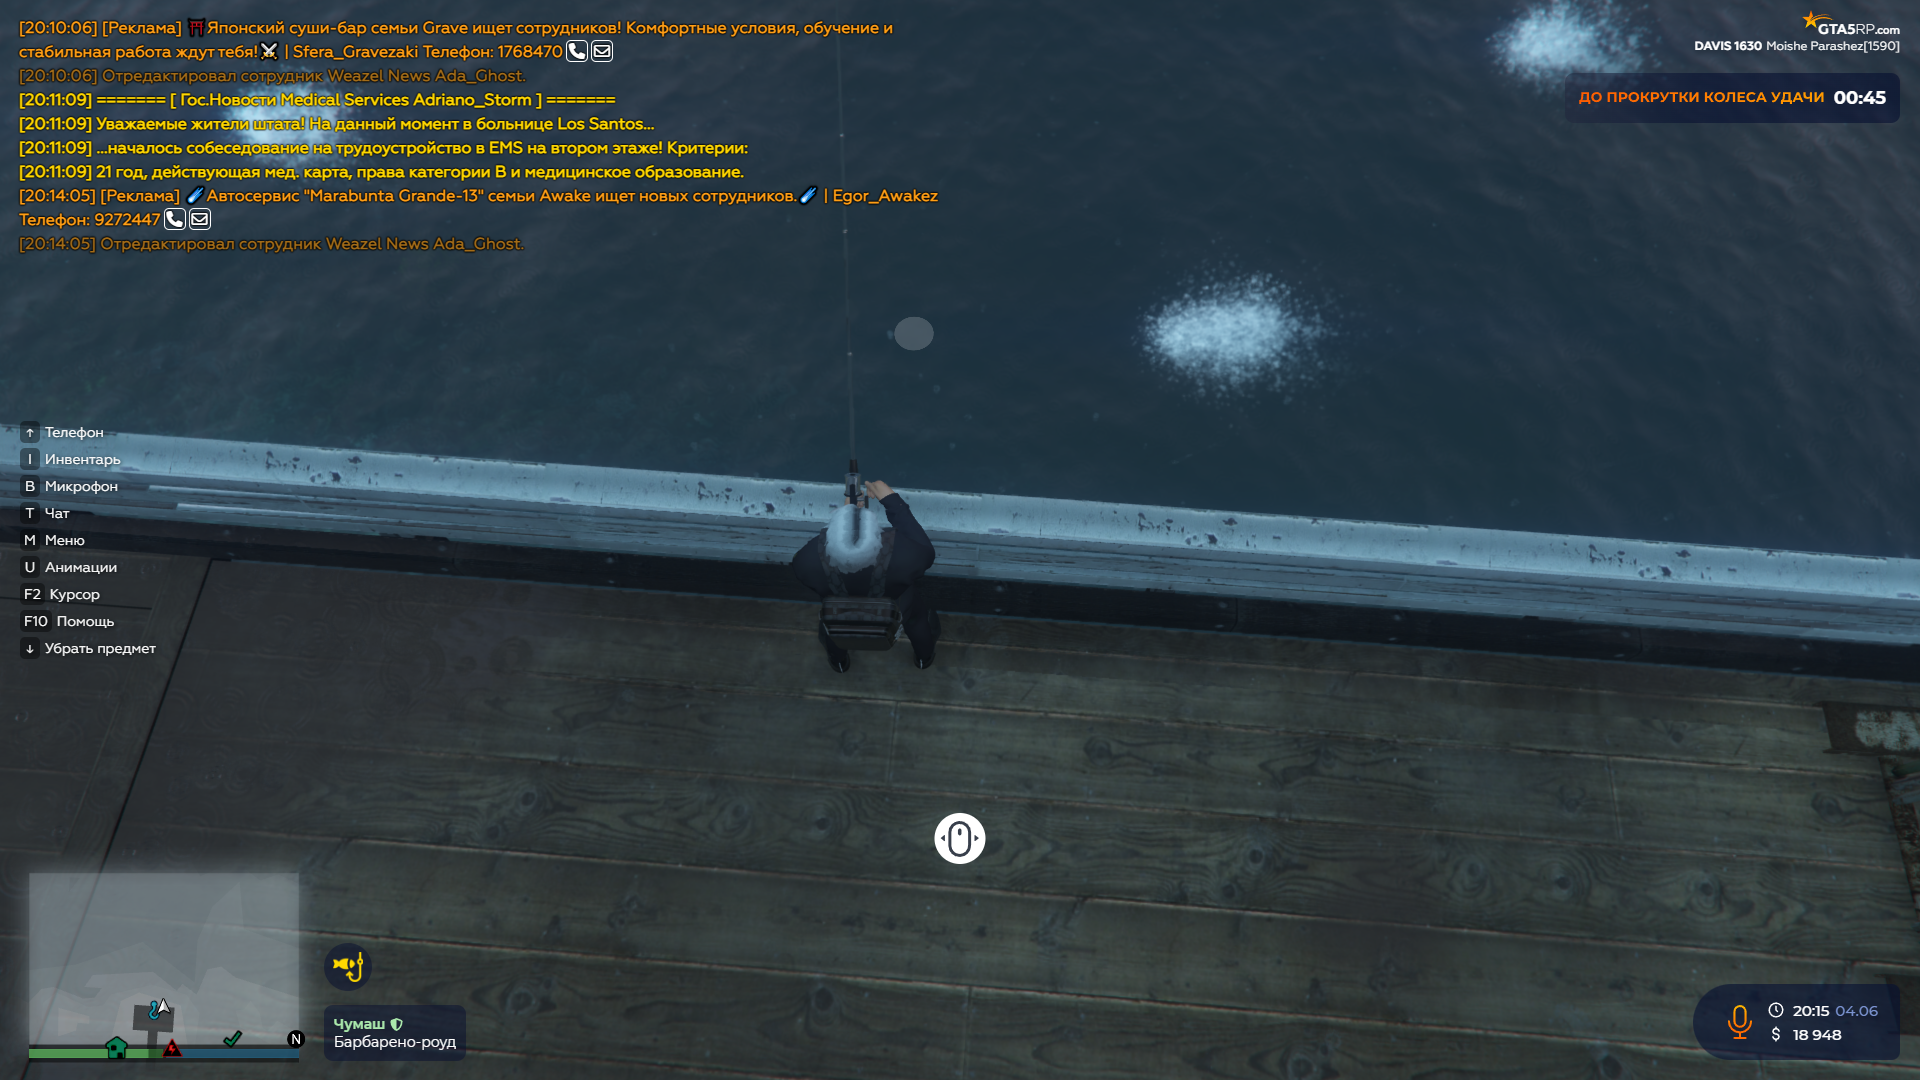circle: (893, 313, 936, 353)
